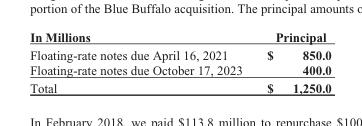table: (29, 29, 330, 95)
table column: (29, 29, 254, 95), (254, 29, 330, 95)
table column header: (29, 29, 330, 45)
table row: (29, 45, 330, 62), (29, 78, 330, 95), (29, 29, 330, 45), (29, 62, 330, 78)
